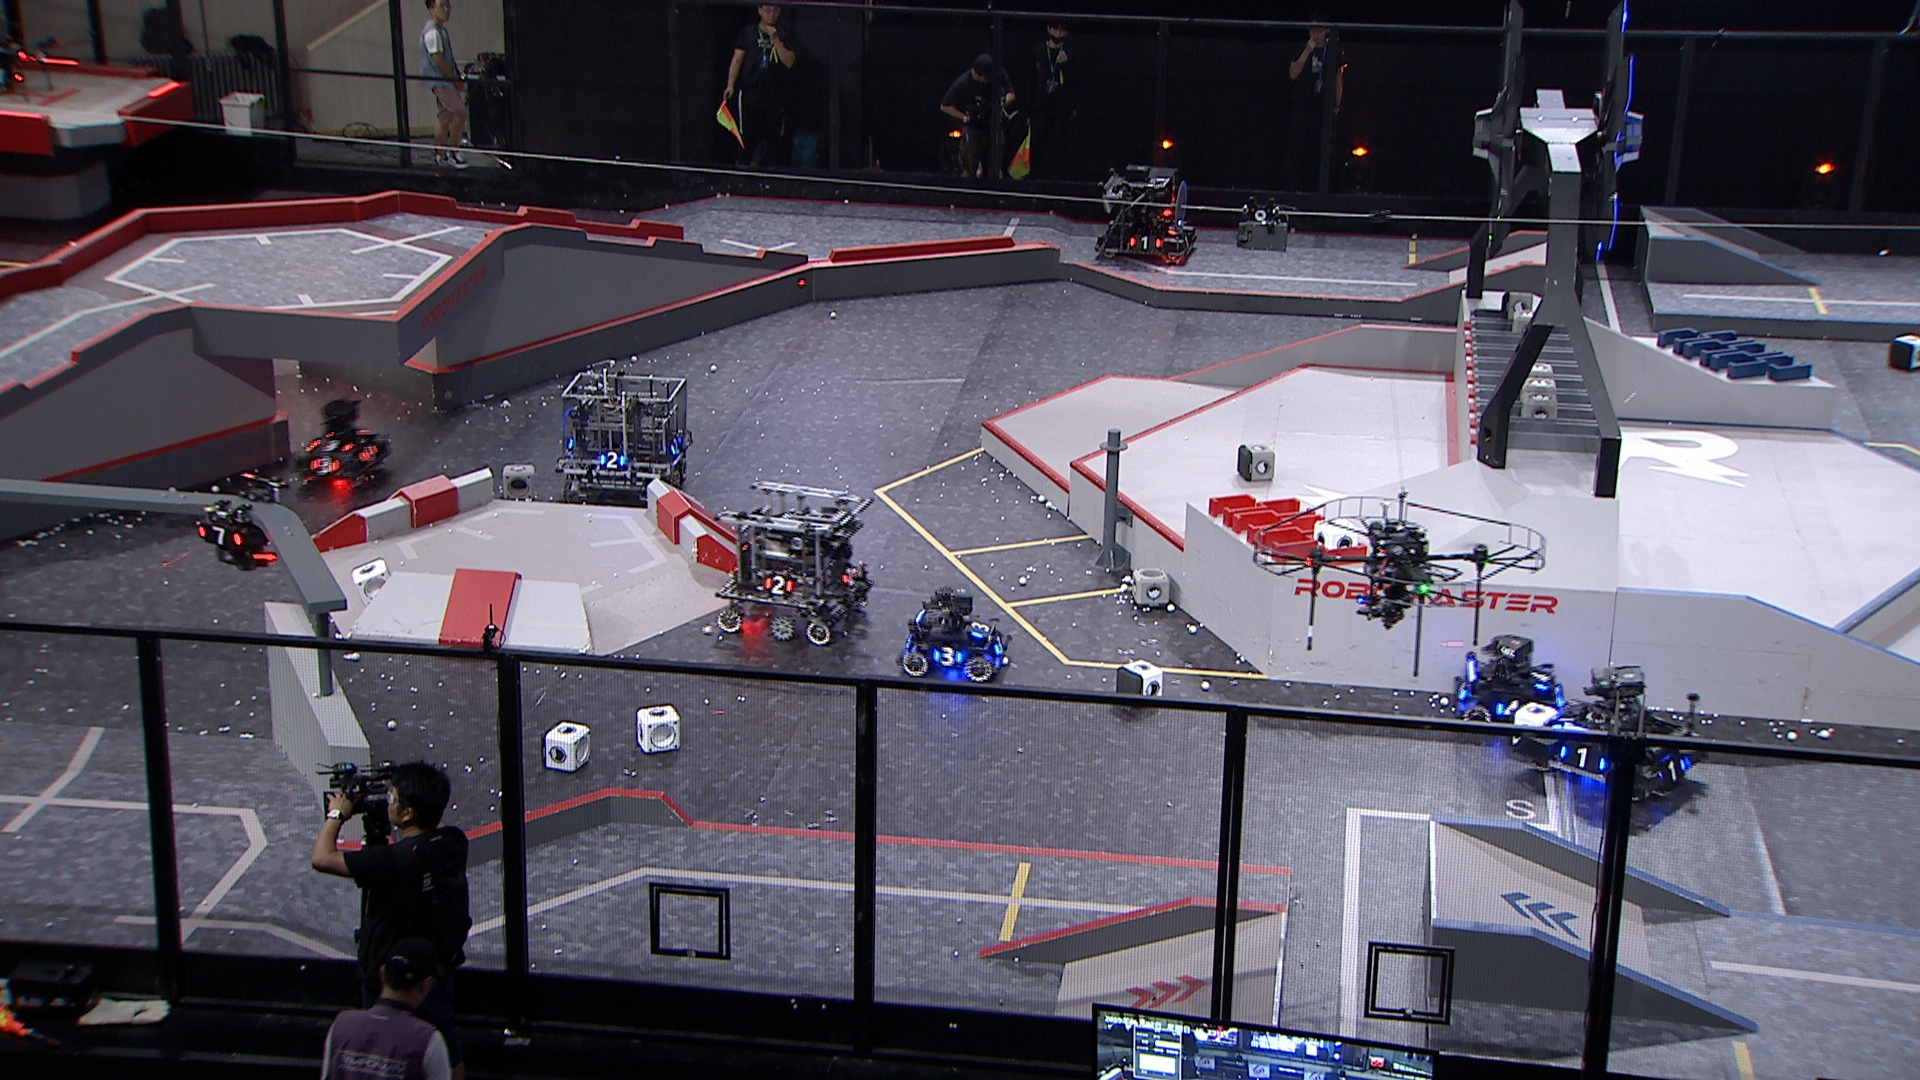armor: (1557, 742, 1607, 771), (195, 524, 245, 547), (1655, 760, 1689, 785), (305, 438, 353, 455), (765, 572, 796, 597), (596, 450, 628, 471), (1524, 669, 1551, 692), (932, 646, 964, 666), (309, 454, 339, 473), (1495, 699, 1522, 721), (1127, 235, 1162, 252), (971, 617, 993, 641), (357, 440, 380, 463), (1451, 679, 1468, 699), (1178, 233, 1195, 253), (669, 436, 684, 458), (843, 564, 858, 585), (992, 636, 1006, 657)
car: (712, 476, 876, 645), (1516, 662, 1704, 807), (556, 365, 694, 504), (1447, 633, 1567, 741), (1096, 161, 1200, 266), (903, 585, 1011, 687), (291, 401, 394, 491)
watcher: (193, 469, 282, 571)
